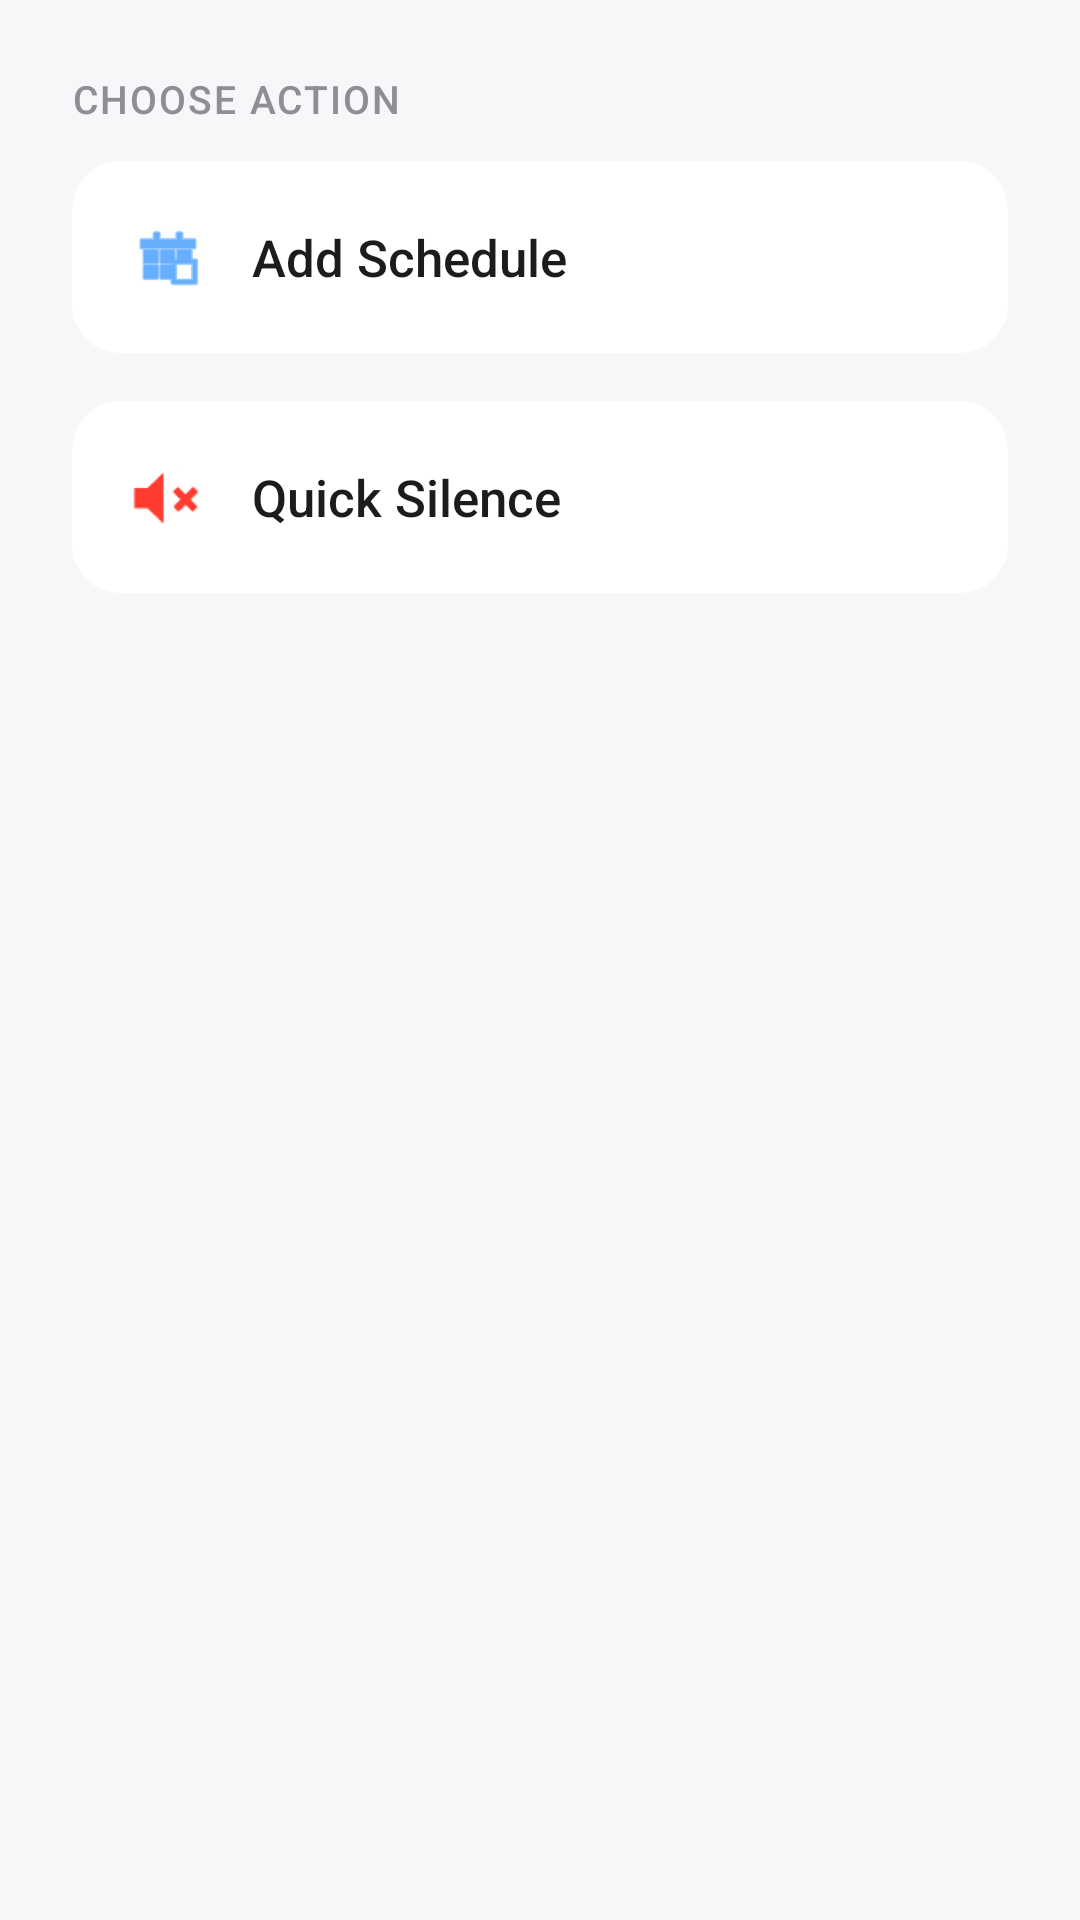

Point at icon controls on the screen. Image size 1080 x 1920, points as (x=x, y=y).
lock silent mode: (x=166, y=498)
today: (x=168, y=258)
